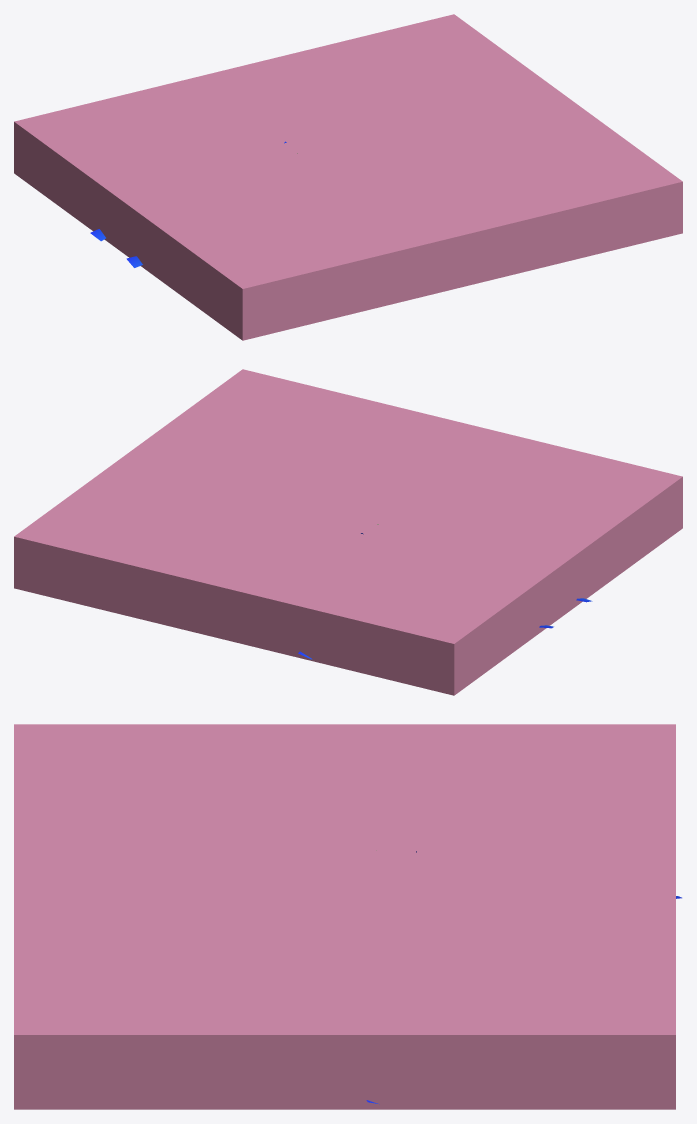
File: vine_bush_wide_b.dae
3 views of the same model, one above another, from view 1: azimuth 30°, elevation 25°; view 2: azimuth 150°, elevation 25°; view 3: azimuth 270°, elevation 25° (orthographic). The views are drawn at different scales.
Parts seen in each view (by area): view 1: Untitled; view 2: Untitled; view 3: Untitled.
Boxes of the visible parts, left/top/right/bottom form: Untitled: left=14, top=14, right=682, bottom=340; Untitled: left=14, top=369, right=682, bottom=695; Untitled: left=14, top=724, right=675, bottom=1109.
Bounding box in the file's own units: 8.6 × 7.59 × 1.12.
